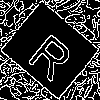R: (25, 25, 82, 83)
